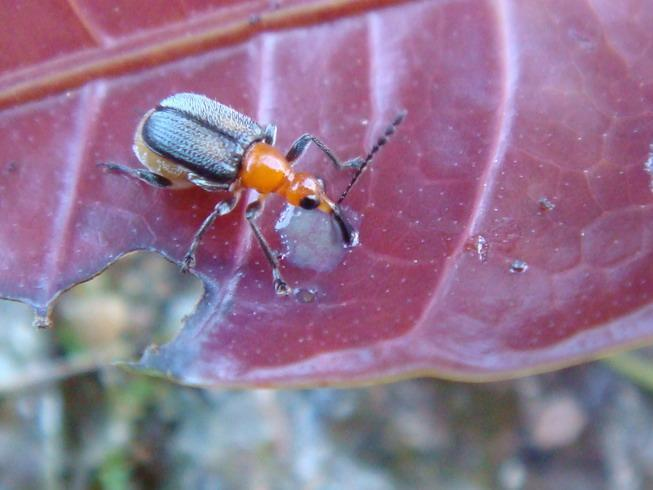Curculionidae: (95, 91, 407, 298)
